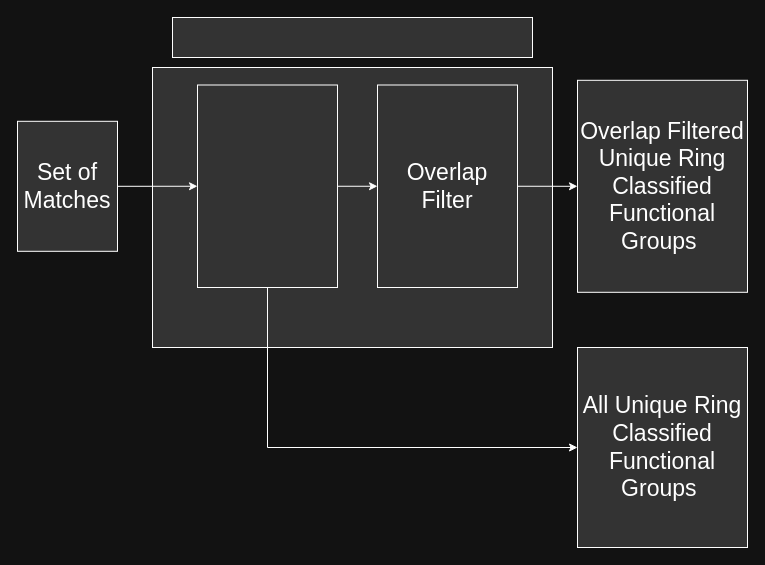
This 765x565 diagram has some shape labels left out. Here are the shapes that lost their labels. From the top down, the box of each, then its label:
(172, 16, 532, 58): Exact Functional Group Identifier
(196, 84, 338, 288): Hierarchical Evaluation
